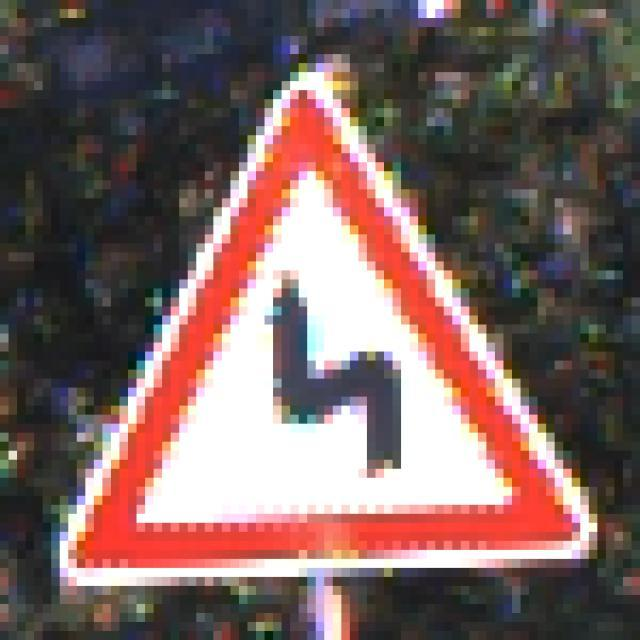left reverse bend: (39, 59, 600, 588)
